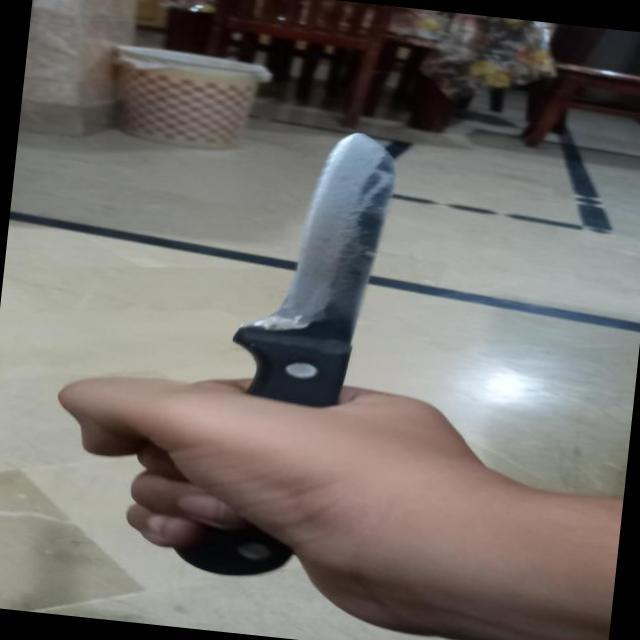Knife: (148, 106, 425, 595)
